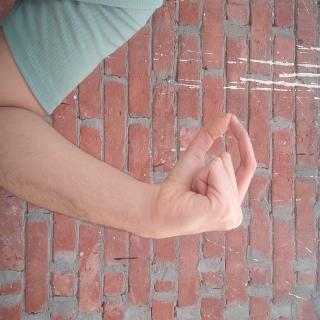FAA: (84, 78, 182, 238)
